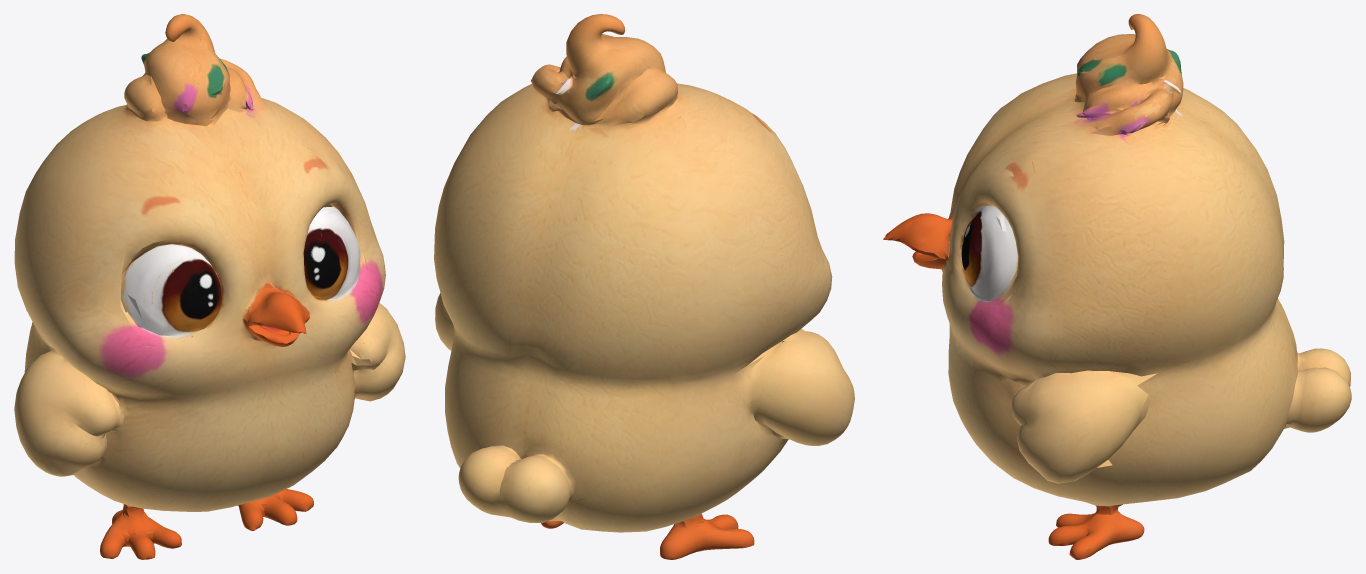
File: piyo.glb
3 renders of one model, left to right at view 1: azimuth 30°, elevation 25°; view 2: azimuth 150°, elevation 25°; view 3: azimuth 270°, elevation 25°, orthographic. The views are drawn at different scales.
Visible parts, largest first — view 1: Mesh_0; view 2: Mesh_0; view 3: Mesh_0.
Part boxes in pixels (bbox=[...]): Mesh_0: bbox=[14, 14, 405, 559]; Mesh_0: bbox=[434, 14, 854, 559]; Mesh_0: bbox=[883, 14, 1351, 559].
Size of the model in its own units: 0.7928 by 1 by 0.8536.
Materials: 1 (1 with a texture image).
